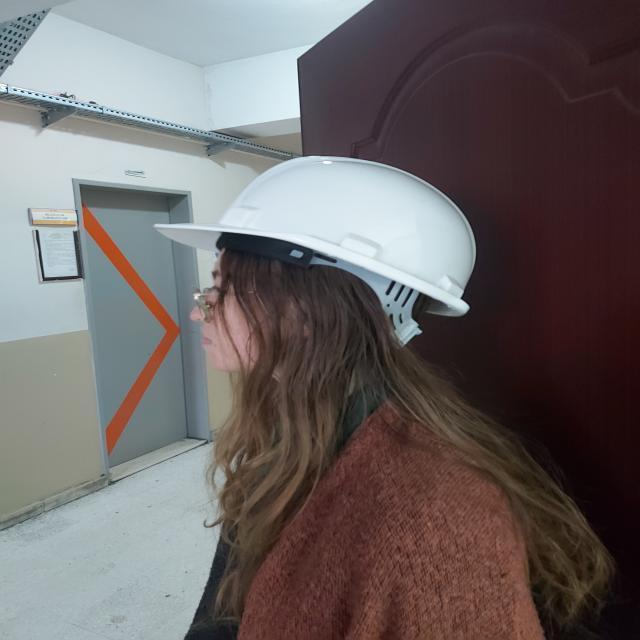white helmet: (167, 149, 495, 325)
